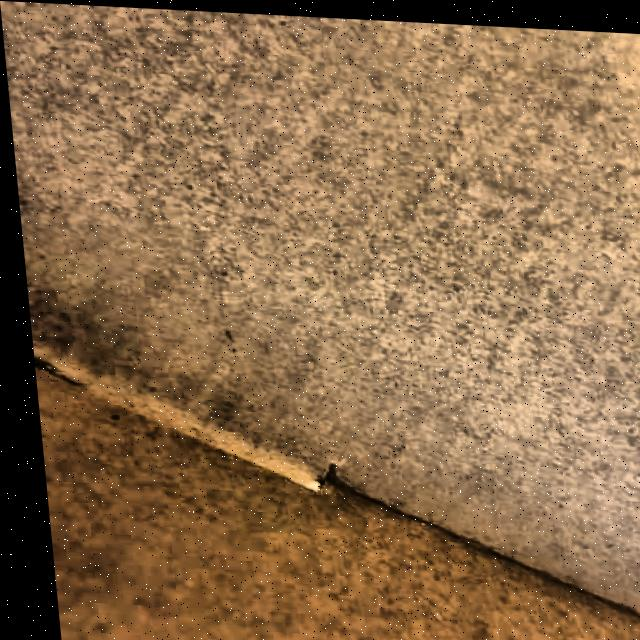cardboard: (2, 2, 640, 640)
